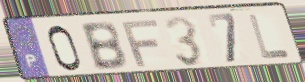0: (46, 23, 83, 73)
3: (164, 15, 206, 68)
7: (205, 11, 240, 66)
B: (78, 20, 130, 73)
F: (120, 18, 161, 69)
L: (246, 13, 293, 61)
